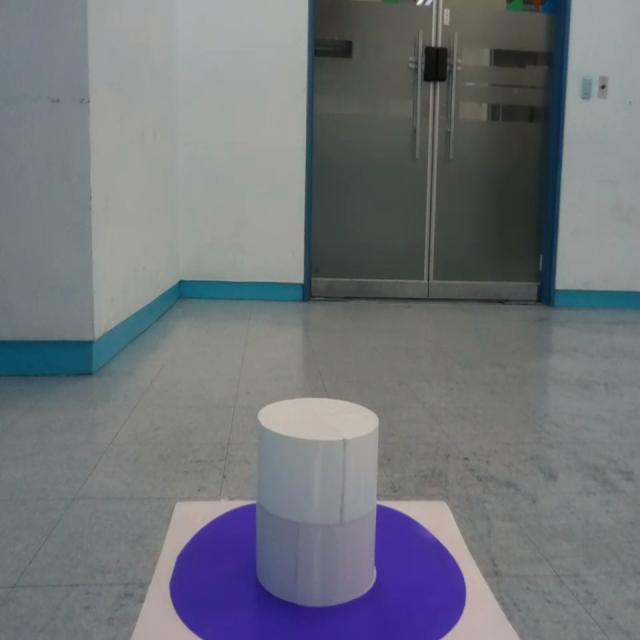cylinder: (254, 398, 379, 608)
